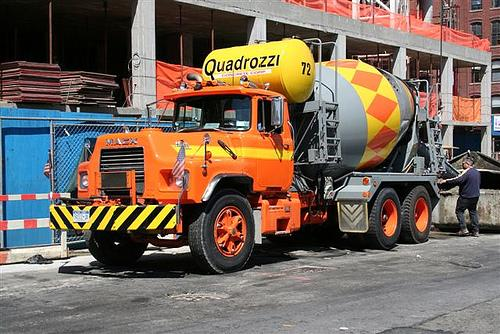truck: (43, 35, 449, 275)
